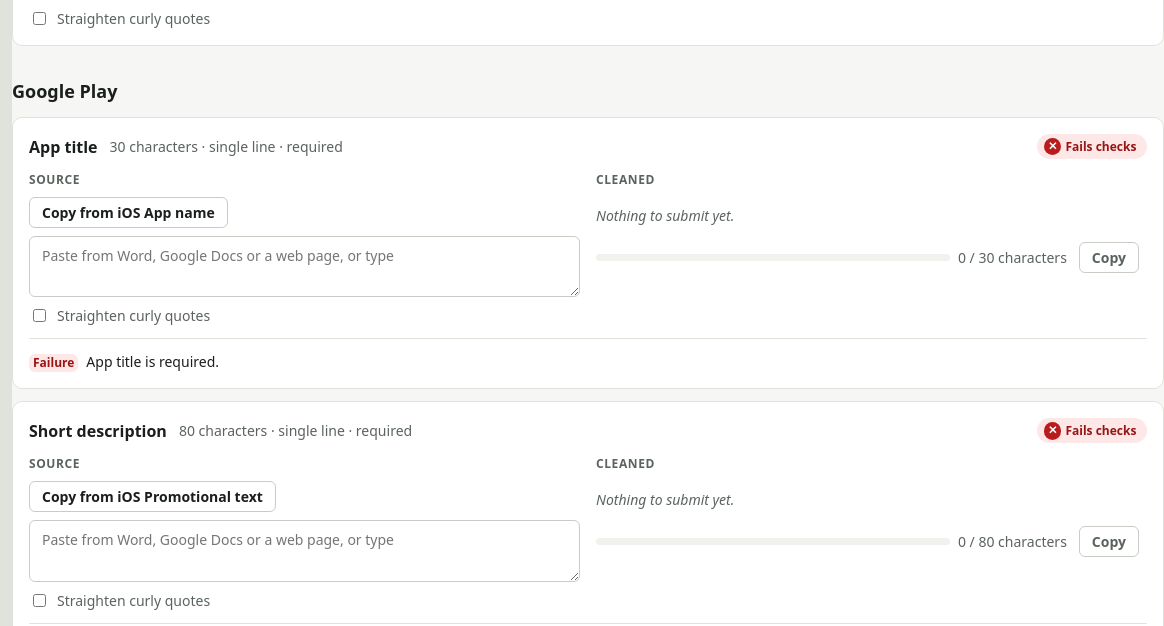
Test case: ListingPanel › marks text past the limit and reports the failure without truncating
The width and height of the screenshot is (1164, 626).
(page scrolled)
Type "Example Health Symptom Tracker Pro" into the text box labelled "App title Source" at (304,267), box [29, 236, 580, 297]
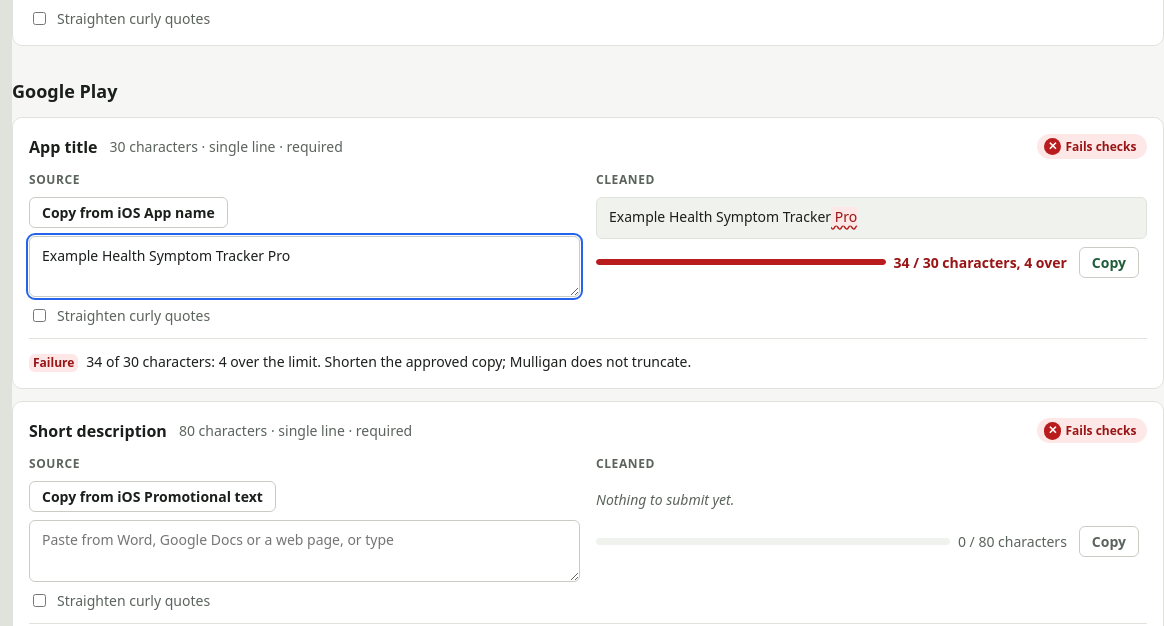
Expected: the text "Fails checks" in the row of "App title" is shown, [1065, 138, 1136, 155]
Expected: the list named "App title findings" shows "34 of 30 characters: 4 over the limit", [86, 352, 691, 371]
